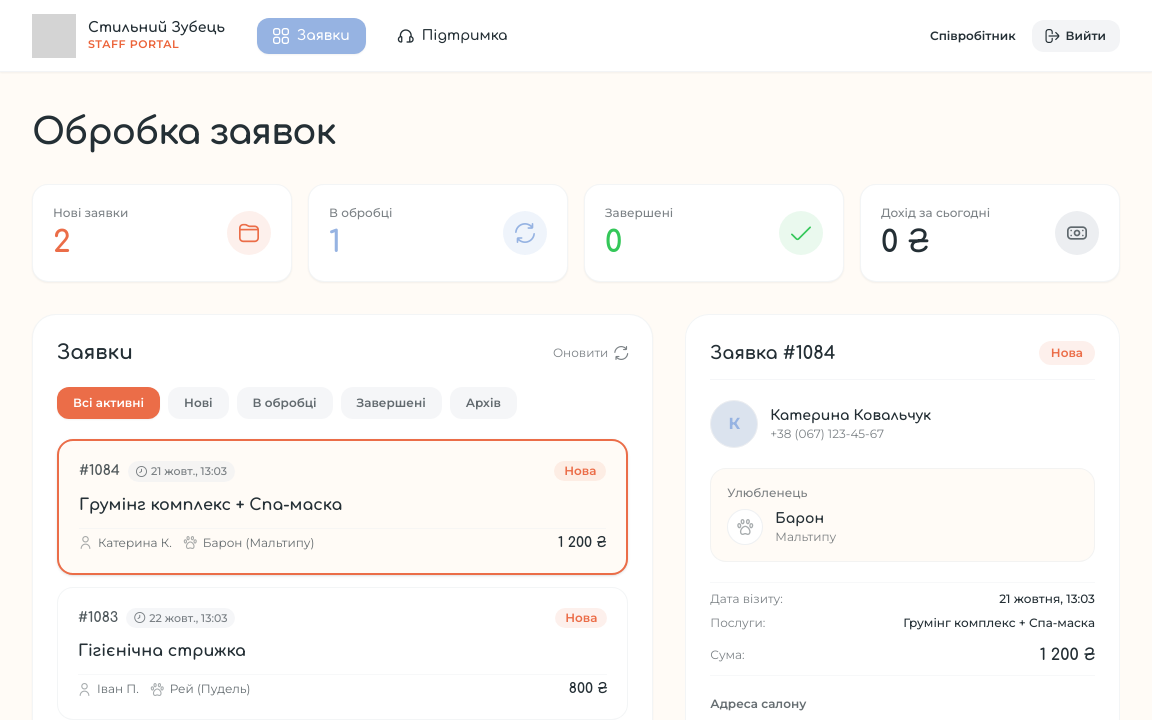
RequestProcessingPage › shows empty state when no requests match filter
This screenshot has width=1152, height=720.
Step 1. Click the tab "Завершені" → (391, 403), box [341, 387, 442, 419]
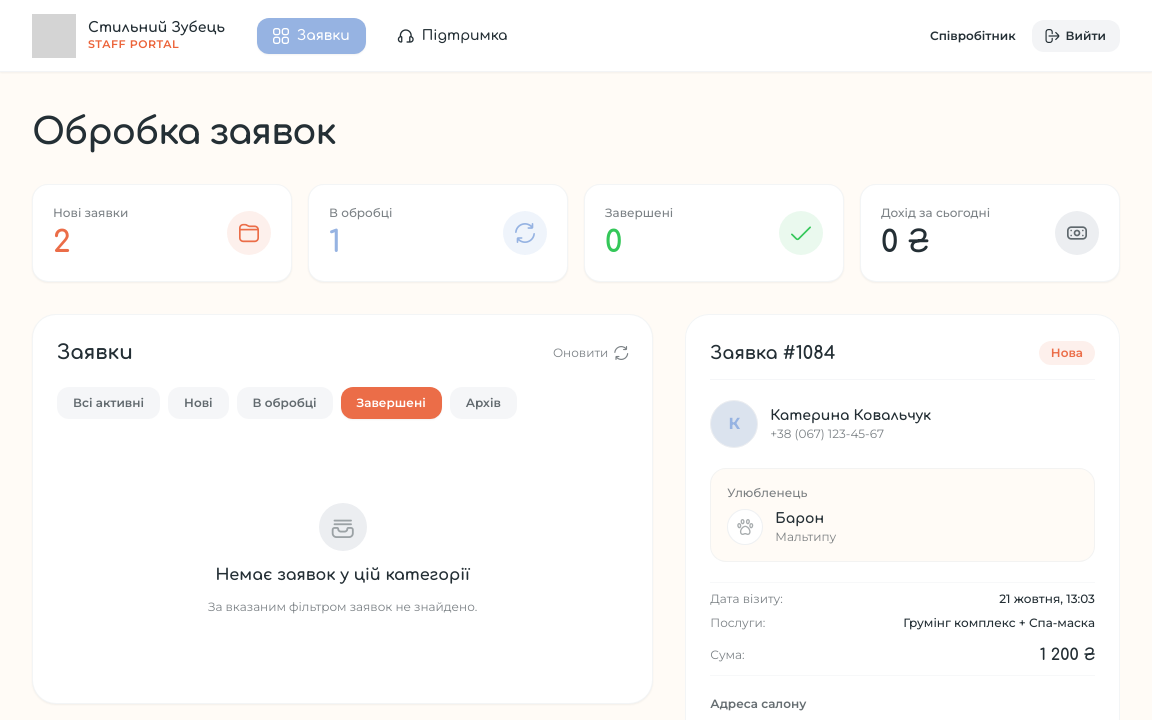
Result: the heading "Немає заявок у цій категорії" is shown at [215, 563, 470, 587]
